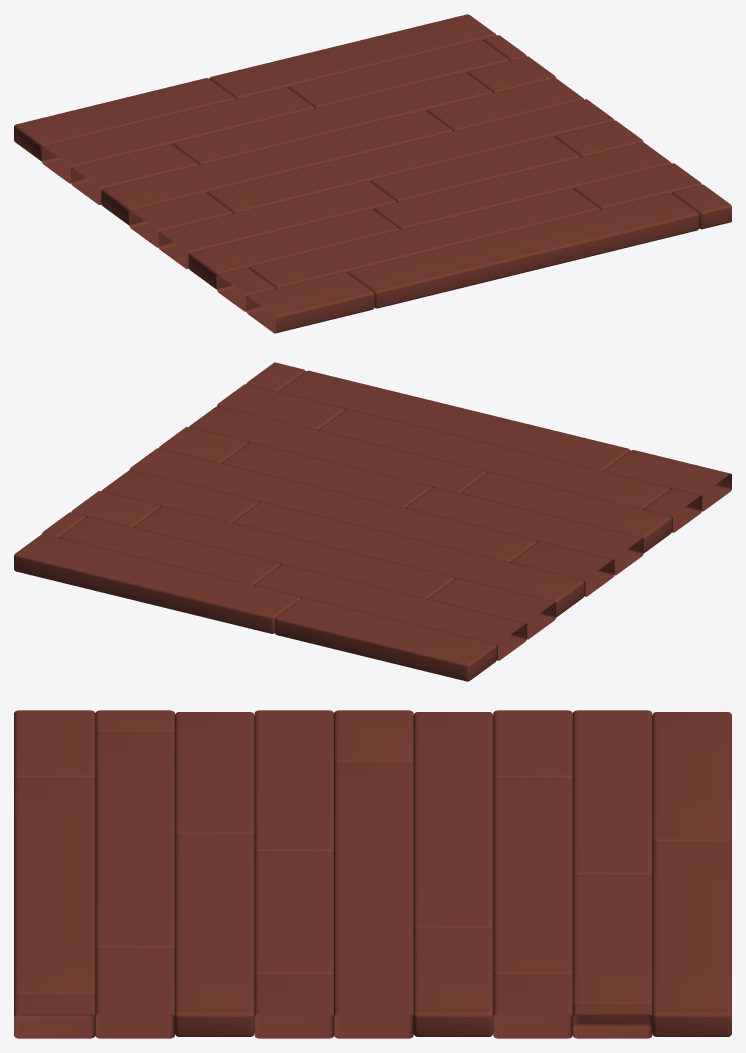
Rendered from SM_Ground_Wood_01.fbx.
3 renders of one model, top to bottom at view 1: azimuth 30°, elevation 25°; view 2: azimuth 150°, elevation 25°; view 3: azimuth 270°, elevation 25°, orthographic. The views are drawn at different scales.
Visible parts, largest first — view 1: Plane; view 2: Plane; view 3: Plane.
Boxes of the visible parts, <box> form: Plane: <box>14,14,731,333</box>; Plane: <box>14,362,731,681</box>; Plane: <box>14,710,731,1038</box>.
Bounding box in the file's own units: 400 × 15 × 400.
